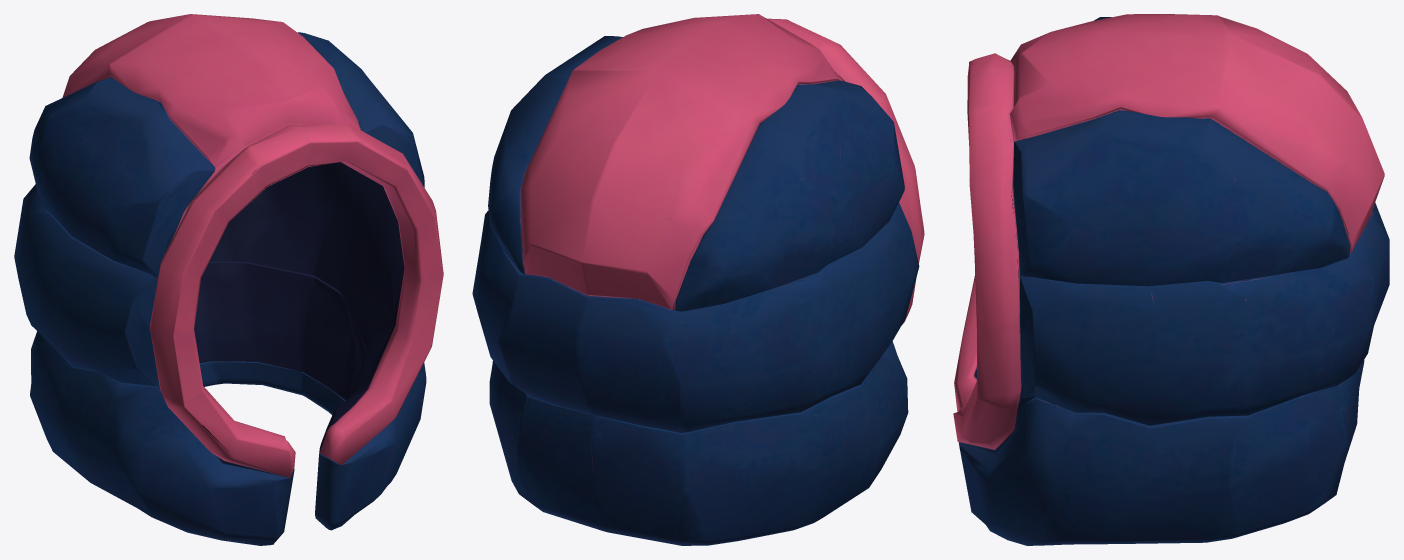
The model's file is detached_hood.glb.
3 renders of one model, left to right at view 1: azimuth 30°, elevation 25°; view 2: azimuth 150°, elevation 25°; view 3: azimuth 270°, elevation 25°, orthographic. The views are drawn at different scales.
Visible parts, largest first — view 1: geometry_0; view 2: geometry_0; view 3: geometry_0.
Boxes of the visible parts, <box> form: geometry_0: <box>14,14,443,545</box>; geometry_0: <box>472,14,924,545</box>; geometry_0: <box>953,14,1389,545</box>.
Size of the model in its own units: 0.7837 by 0.9521 by 0.7847.
1 material, 1 textured.
